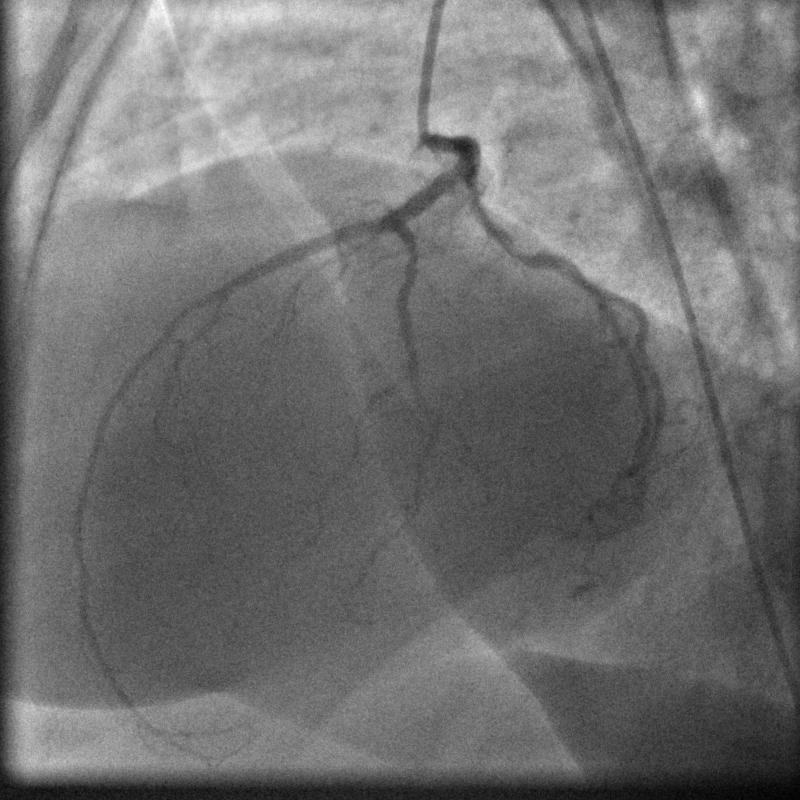Stenosis: (497, 226, 533, 279)
